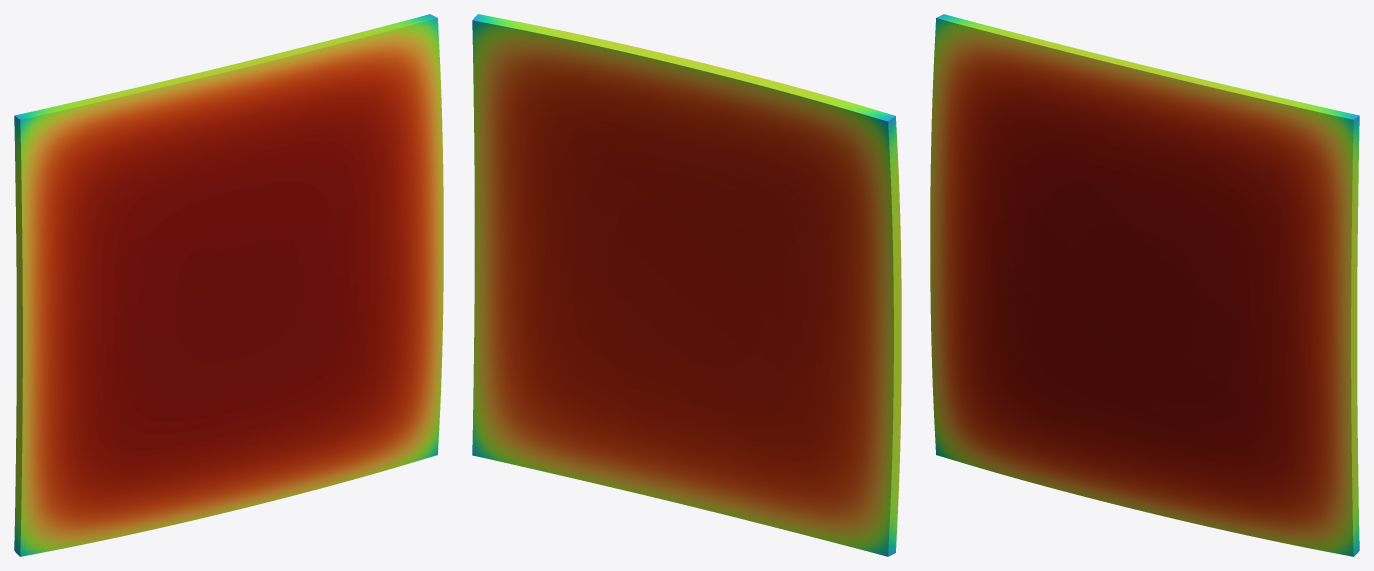
Rendered from DISP_Al6061-T6_3mm.gltf.
3 views of the same model, side by side, from view 1: azimuth 30°, elevation 25°; view 2: azimuth 150°, elevation 25°; view 3: azimuth 330°, elevation 25° (orthographic).
Parts seen in each view (by area): view 1: Renderer Node; view 2: Renderer Node; view 3: Renderer Node.
Boxes of the visible parts, x1,y1,x2,y2 form: Renderer Node: (14,14,443,556); Renderer Node: (472,14,901,556); Renderer Node: (930,14,1359,556).
Size of the model in its own units: 111 by 111 by 7.1.
1 material, 1 textured.
